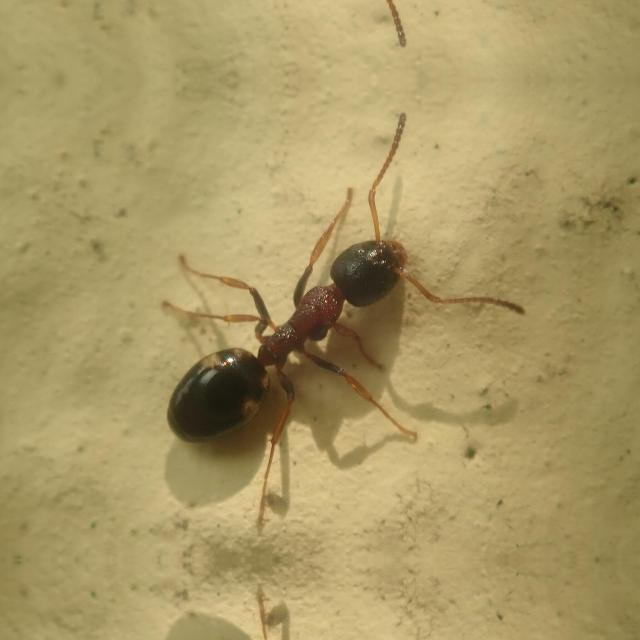Dolichoderus: (132, 183, 482, 477)
